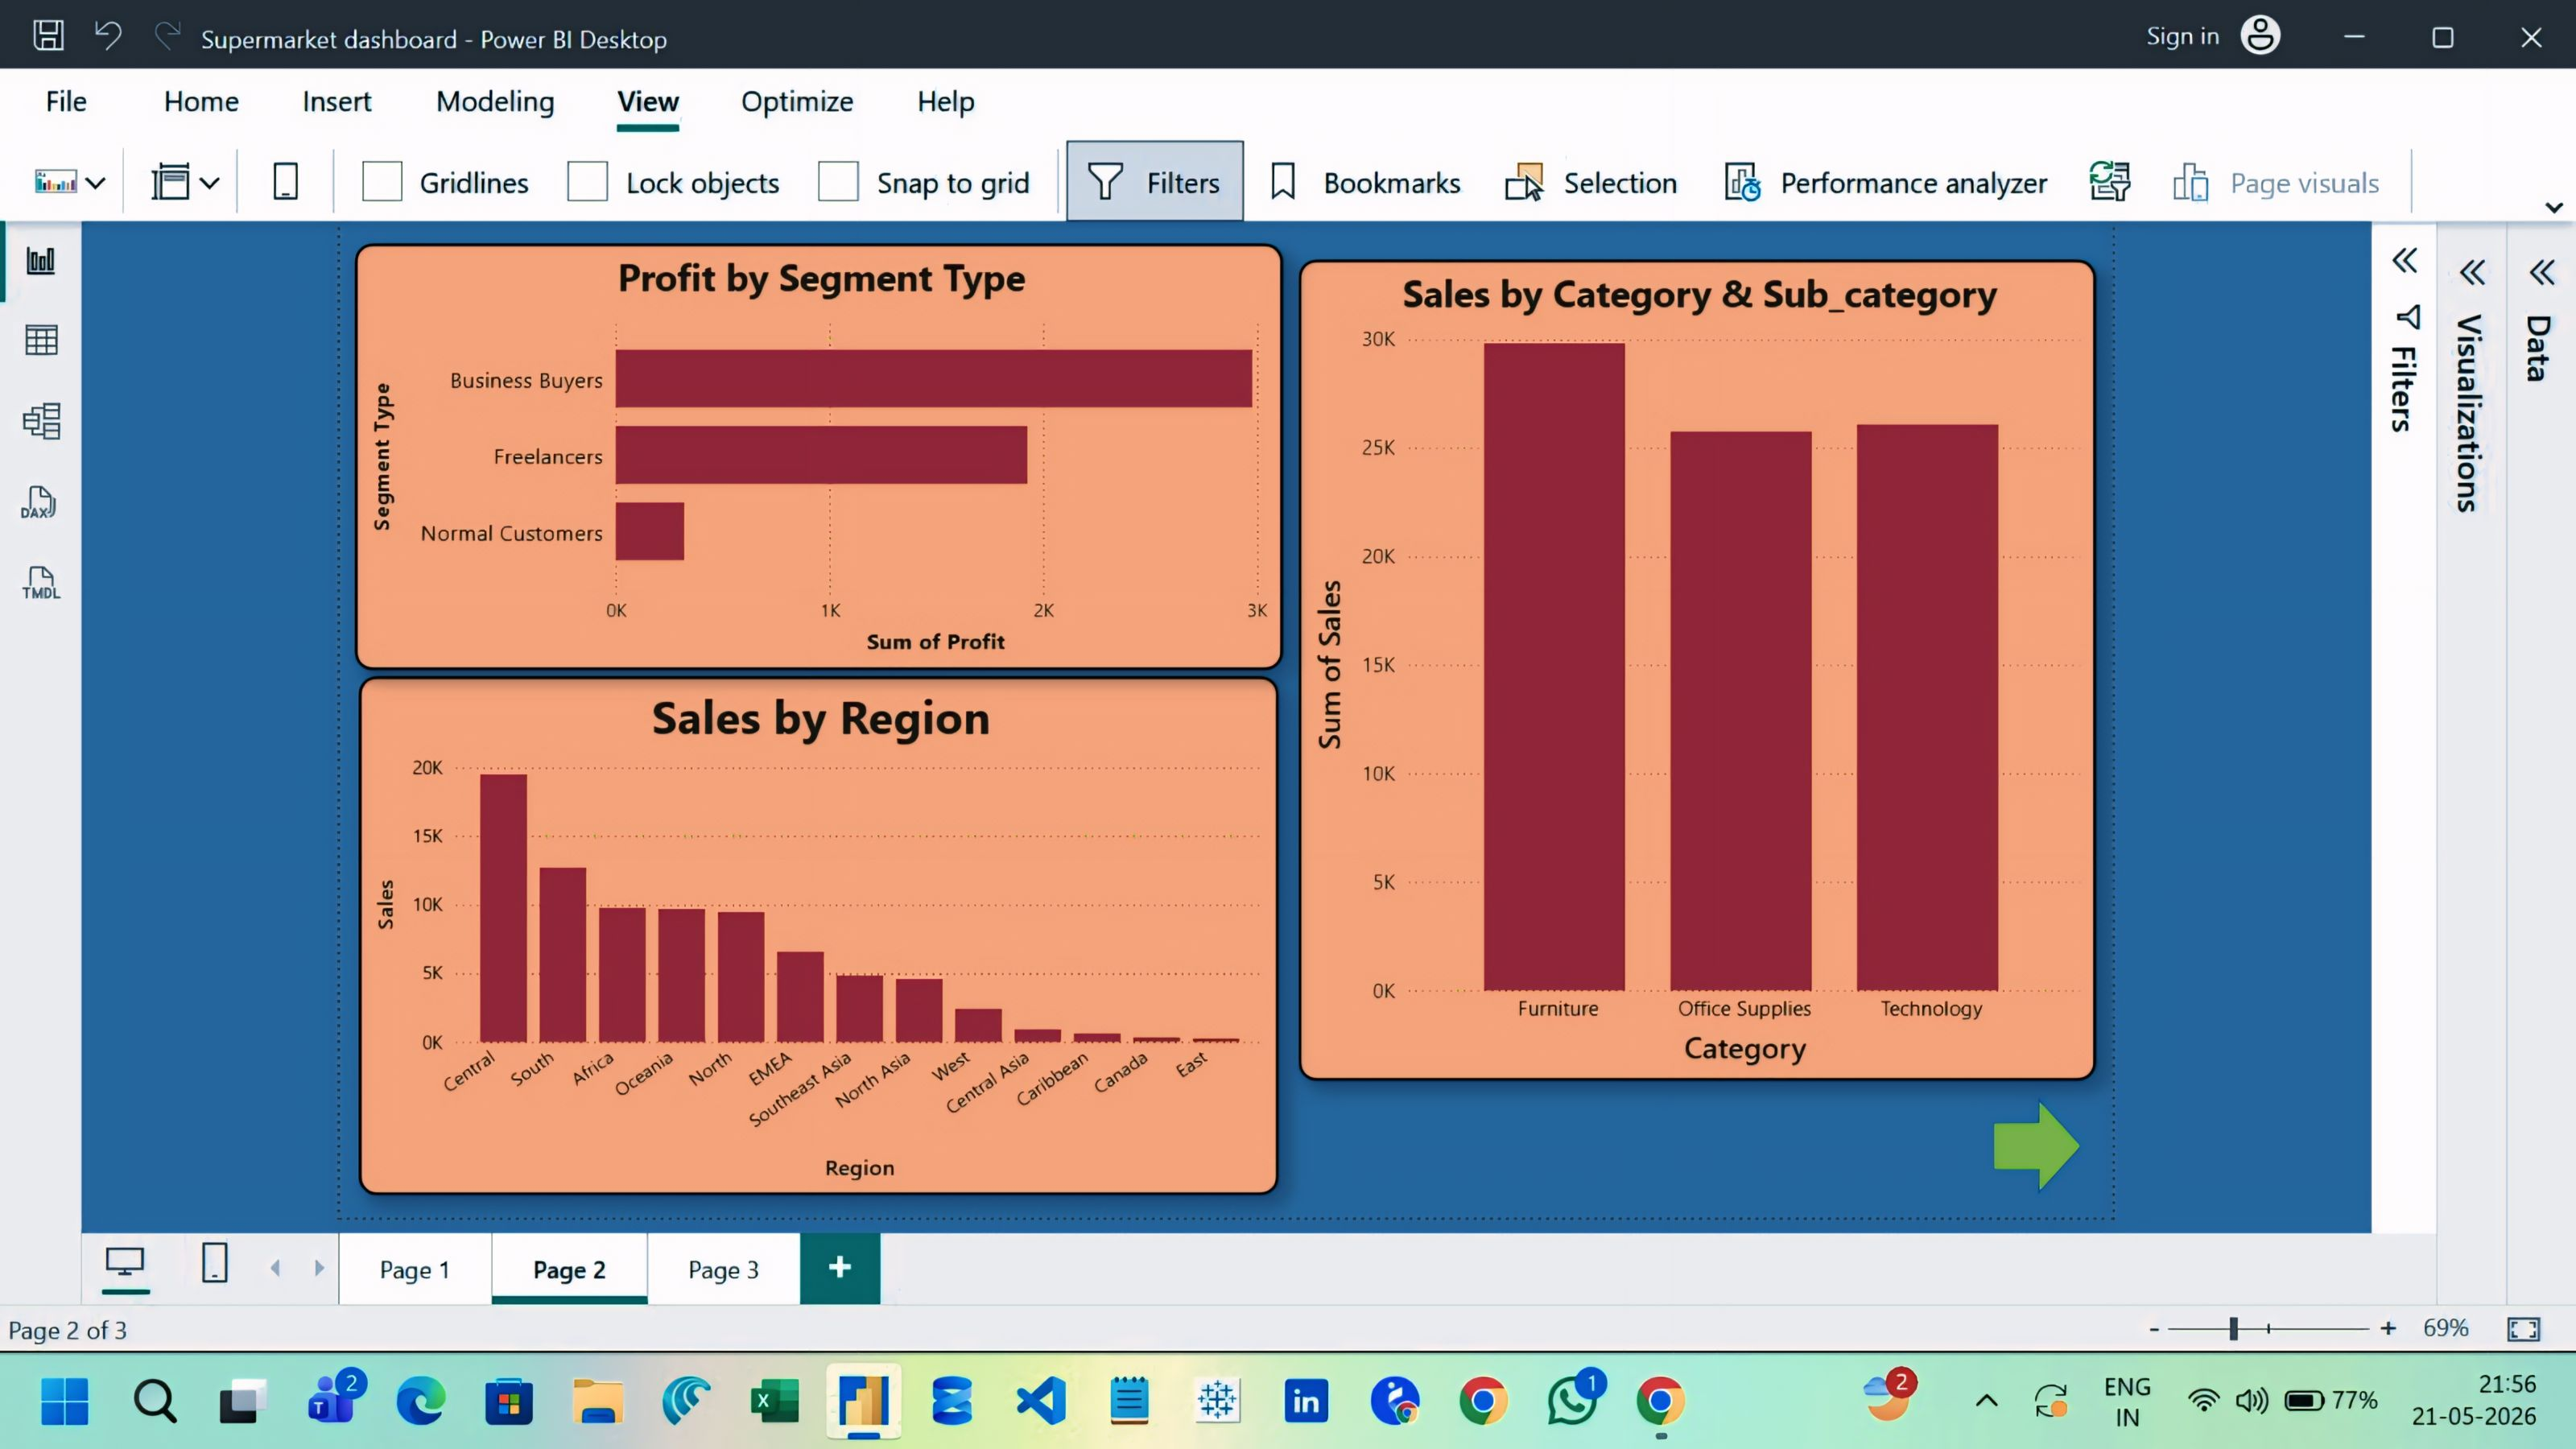

The page's visual inventory and layout, read from the dashboard file:
{"tool":"powerbi","page":{"name":"Page 2","canvas":[1280,720],"ordinal":1},"visuals":[{"type":"clusteredColumnChart","title":"Sales by Category & Sub_category","fields":{"Category":["Supermarket data.sub_category","Supermarket data.category"],"Y":["Sum(Supermarket data.sales)"]},"box":[692.8,27.7,576.4,593.9],"z":0},{"type":"columnChart","title":"Sales by Region","fields":{"Category":["Supermarket data.region"],"Y":["Sum(Supermarket data.sales)"]},"box":[13.1,329,665.2,375.5],"z":1000},{"type":"barChart","title":"Profit by Segment Type","fields":{"Category":["Supermarket data.Segment Type"],"Y":["Sum(Supermarket data.profit)"]},"box":[10.2,16,671,308.6],"z":2000},{"type":"shape","box":[1195,633.1,64.8,71.2],"z":4000}]}

Visuals, with their boxes on the page's 1280x720 design canvas (x1, y1, x2, y2). These are canvas units, not pixel positions in the 2576x1449 screenshot, which may show the page scaled, cropped or inside an application window:
"Sales by Category & Sub_category" clusteredColumnChart: l=693, t=28, r=1269, b=622
"Sales by Region" columnChart: l=13, t=329, r=678, b=704
"Profit by Segment Type" barChart: l=10, t=16, r=681, b=325
shape: l=1195, t=633, r=1260, b=704
